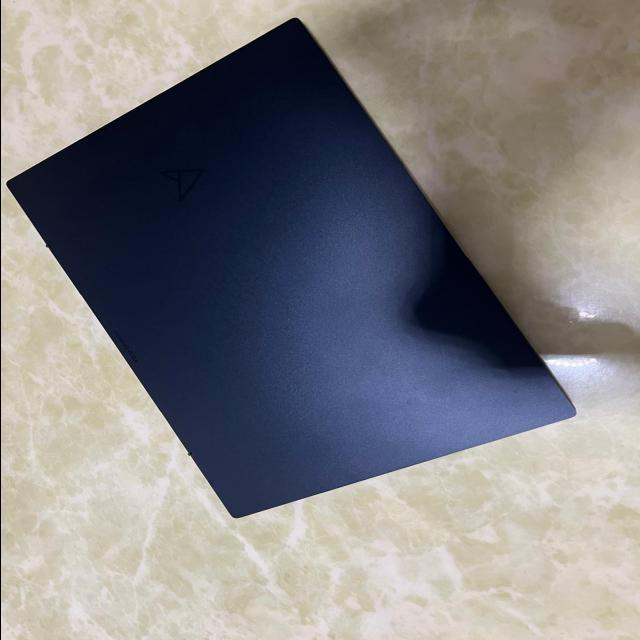laptop: (5, 16, 576, 519)
